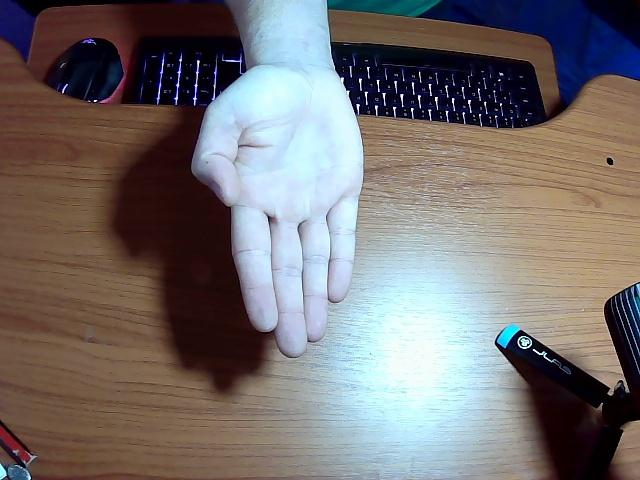paper: (192, 1, 362, 357)
